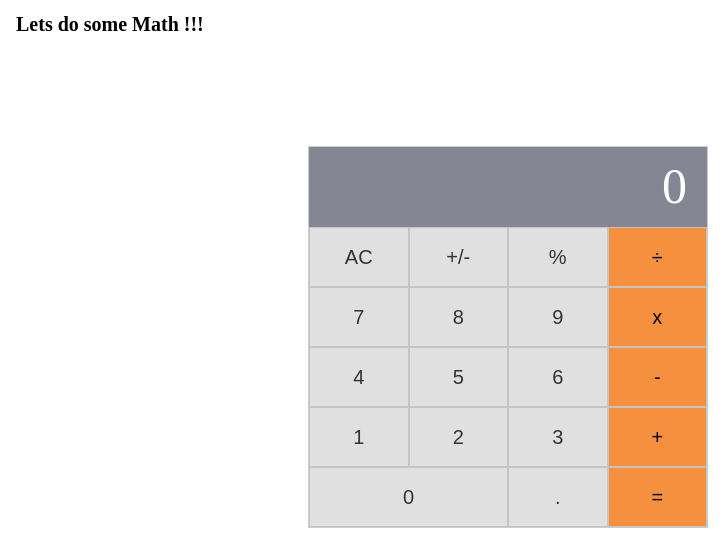
App interaction › Simulate User interaction on the keyboard
expect the button "7" holds "7": met, box [309,287,408,347]
expect the button "+" holds "+": met, box [608,407,707,467]
Step 1. Click the button "5" → (458, 377), box [408,347,508,407]
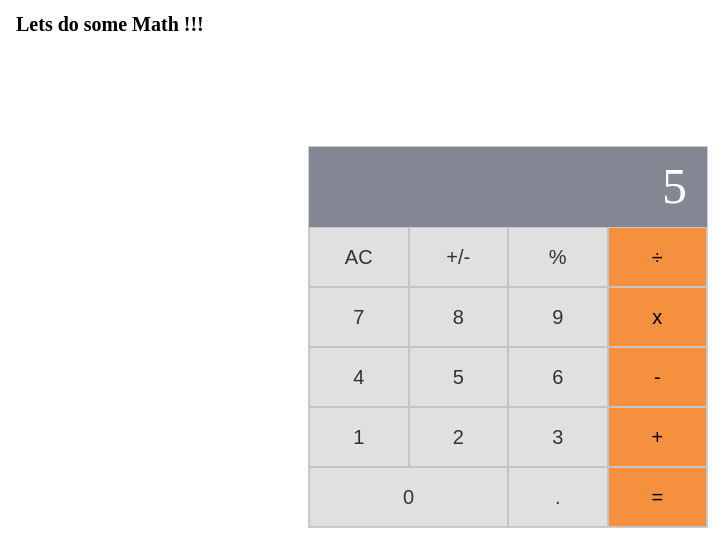
Step 2. Click the button "+" → (657, 437), box [608,407,707,467]
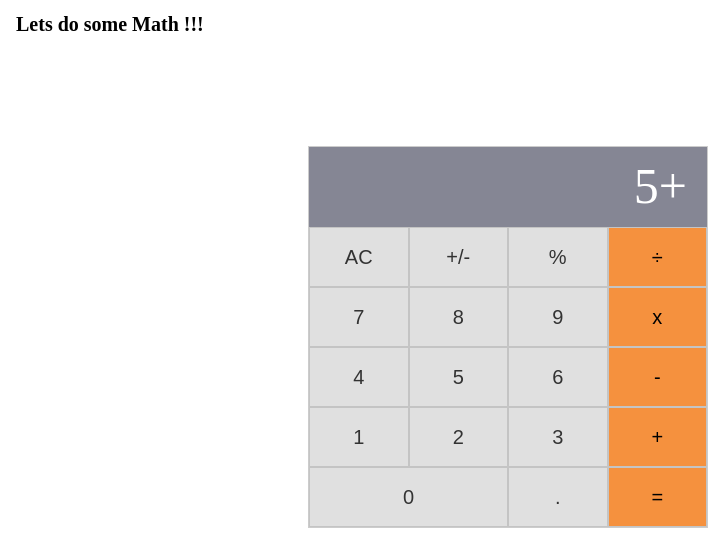
Step 3. Click the button "7" → (359, 317), box [309,287,408,347]
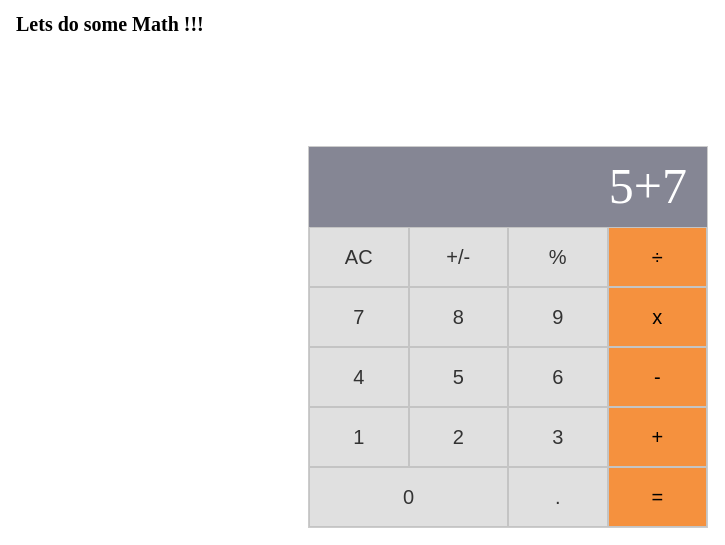
Step 4. Click the button "=" → (657, 497), box [608,467,707,527]
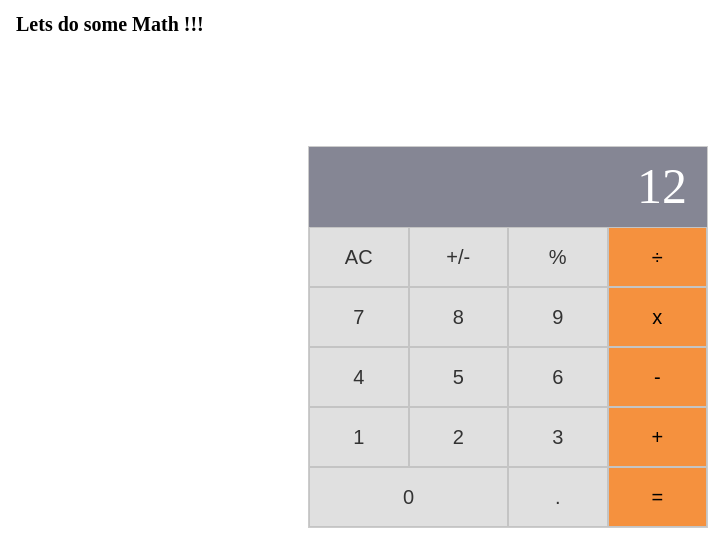
expect the text with class "calculator-screen" reads "12": met, box [637,158,687,214]
